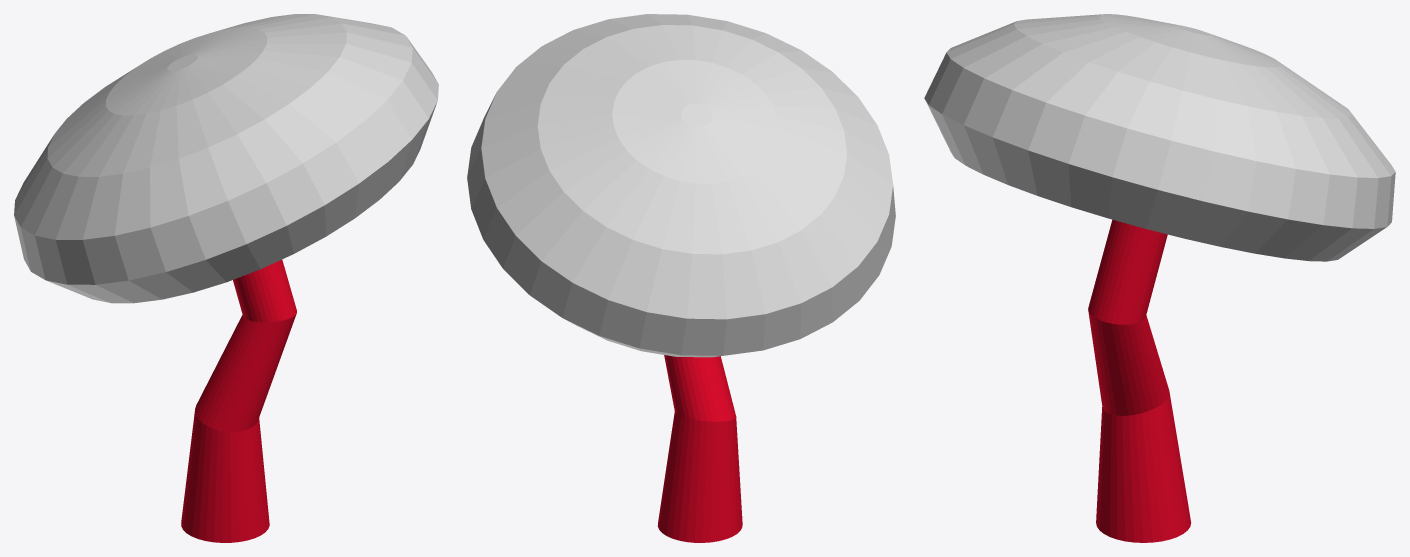
File: Grzybek4.fbx
The picture shows the model from 3 angles, left to right: view 1: azimuth 30°, elevation 25°; view 2: azimuth 150°, elevation 25°; view 3: azimuth 270°, elevation 25°; orthographic projection. The views are drawn at different scales.
Parts seen in each view (by area): view 1: Circle.002; view 2: Circle.002; view 3: Circle.002.
Boxes of the visible parts, left/top/right/bottom form: Circle.002: left=14, top=14, right=438, bottom=542; Circle.002: left=467, top=14, right=895, bottom=542; Circle.002: left=924, top=14, right=1395, bottom=542.
Bounding box in the file's own units: 688 × 832 × 696.
